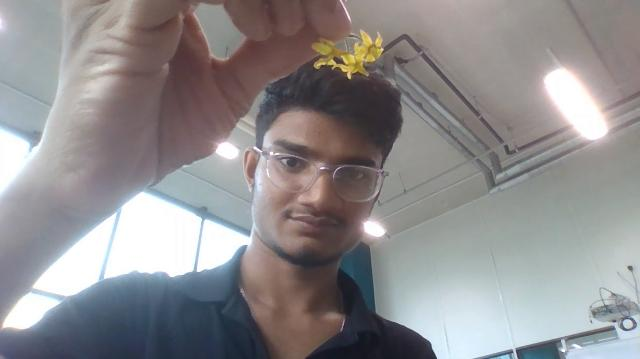Anthesis: (310, 38, 351, 71), (354, 29, 384, 65), (333, 51, 369, 78)
